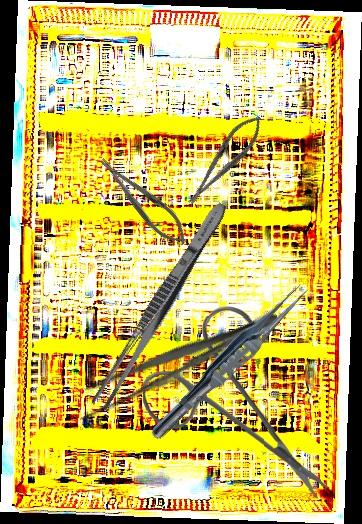Dressing Forceps: (89, 197, 233, 414), (67, 298, 285, 427)
Iris Scissors: (141, 304, 330, 501)
Needle Holder: (92, 149, 195, 253), (178, 108, 271, 212)
Tissue Forceps: (145, 274, 315, 449)
